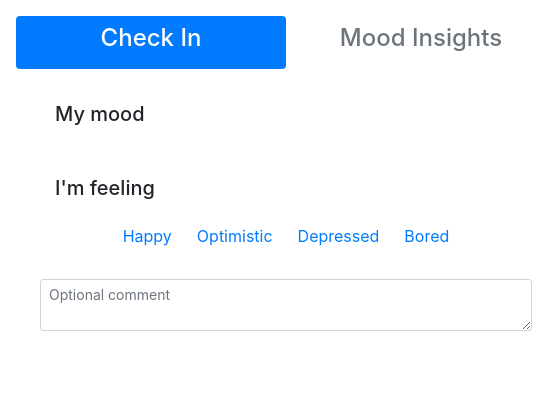
Test: App - as a user › when I load the page › I can de-select how I'm feeling
The width and height of the screenshot is (549, 410).
Click the text "Happy" at (147, 235), box left=123, top=224, right=172, bottom=246
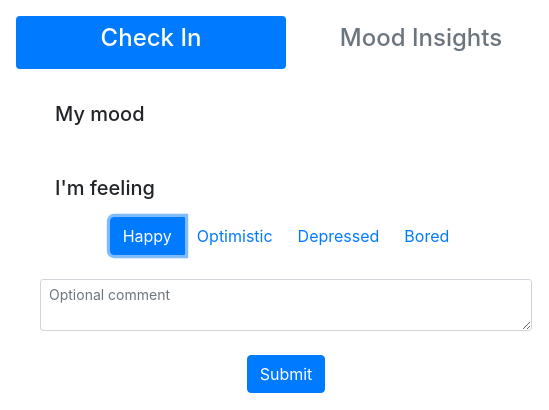
Check: the button "Submit" is shown, box left=247, top=355, right=325, bottom=393
Click the text "Happy" at (147, 236), box left=110, top=217, right=185, bottom=255
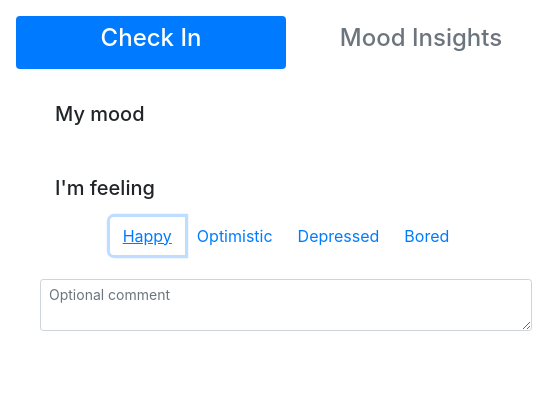
Check: the button "Submit" is gone
